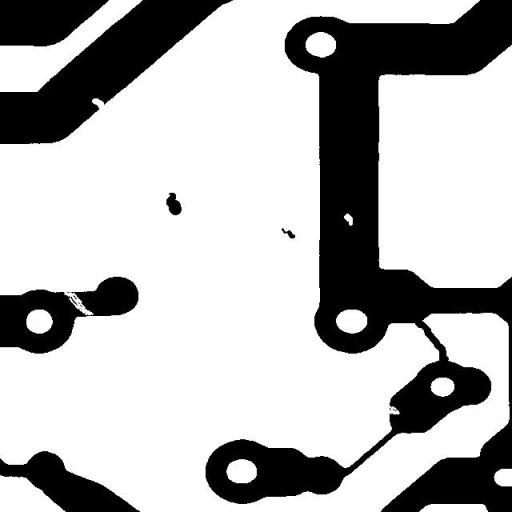copper: (158, 185, 189, 222), (274, 220, 302, 246)
mousebite: (374, 396, 408, 422), (84, 90, 114, 118)
open: (56, 284, 101, 322)
pin-hole: (336, 206, 360, 232)
short: (407, 312, 456, 370)
